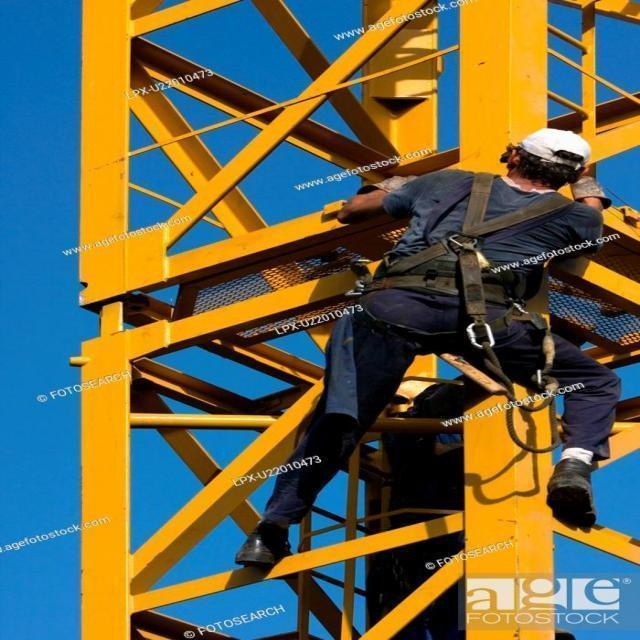Arnes_seguridad: (337, 166, 580, 361)
